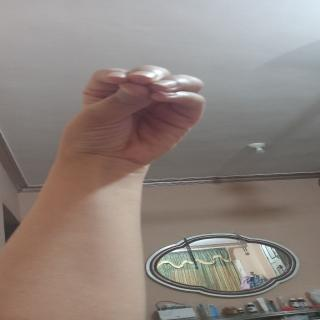HA: (55, 57, 218, 166)
